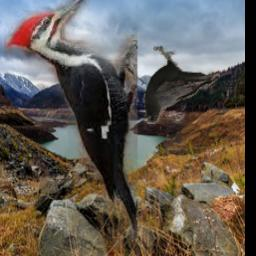Crow: (144, 46, 221, 124)
Woodpecker: (4, 0, 137, 241)
